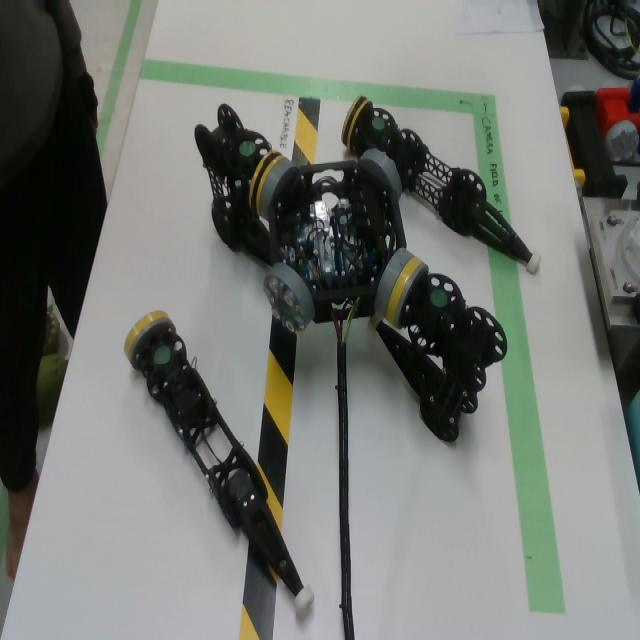body: (270, 163, 406, 324)
body_connector: (263, 263, 315, 333), (374, 248, 413, 317), (259, 159, 298, 220), (358, 148, 402, 200)
leg: (125, 311, 315, 615), (341, 96, 542, 275), (369, 257, 508, 443), (194, 104, 284, 265)
leg_connector: (124, 311, 173, 372), (249, 151, 284, 216), (341, 96, 373, 149)
leg_marker: (430, 289, 448, 307), (154, 345, 170, 364), (240, 141, 254, 156), (372, 119, 384, 129)
